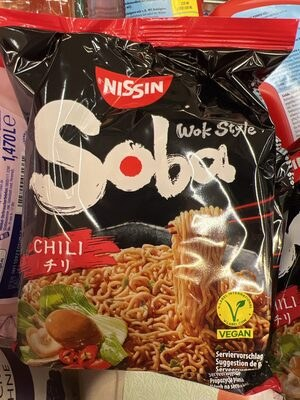soba chili: (15, 20, 285, 380)
